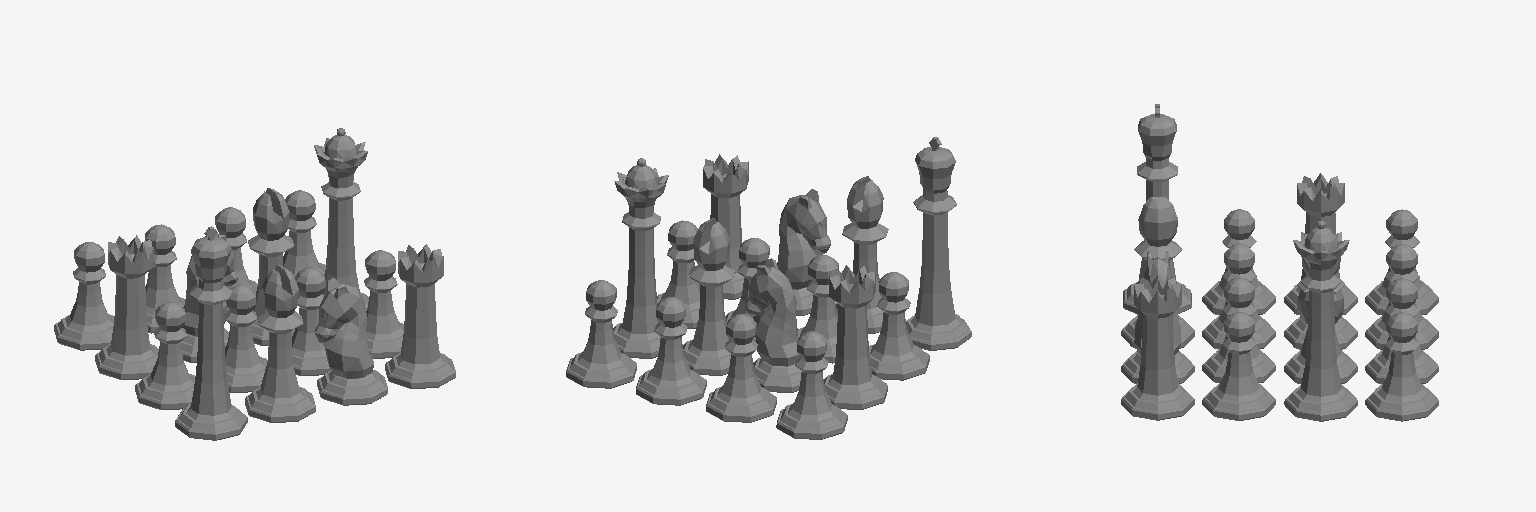
Rendered from chessp.obj.
3 views of the same model, side by side, from view 1: azimuth 30°, elevation 25°; view 2: azimuth 150°, elevation 25°; view 3: azimuth 270°, elevation 25° (orthographic).
Visible parts, largest first — view 1: Z; view 2: Z; view 3: Z.
Boxes of the visible parts, box(x1,y1,x2,y2) form: Z: box(54, 128, 455, 440); Z: box(566, 137, 971, 439); Z: box(1121, 104, 1438, 421).
Bounding box in the file's own units: 98.53 × 68.1 × 98.6.